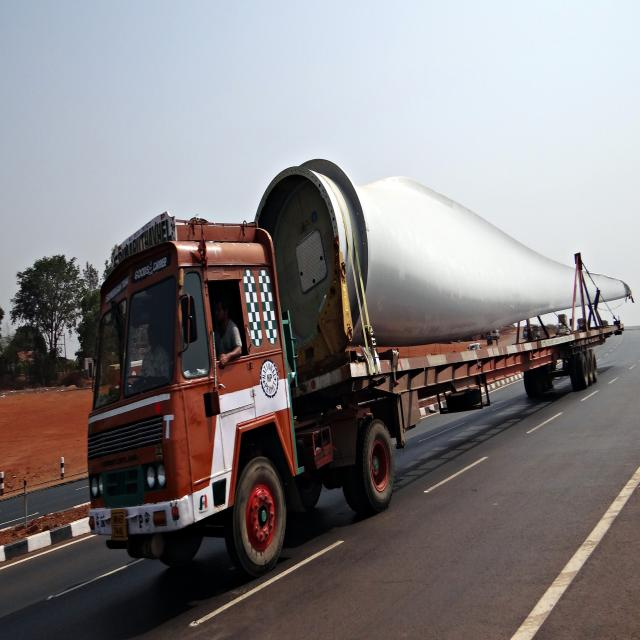truck: (86, 160, 631, 574)
